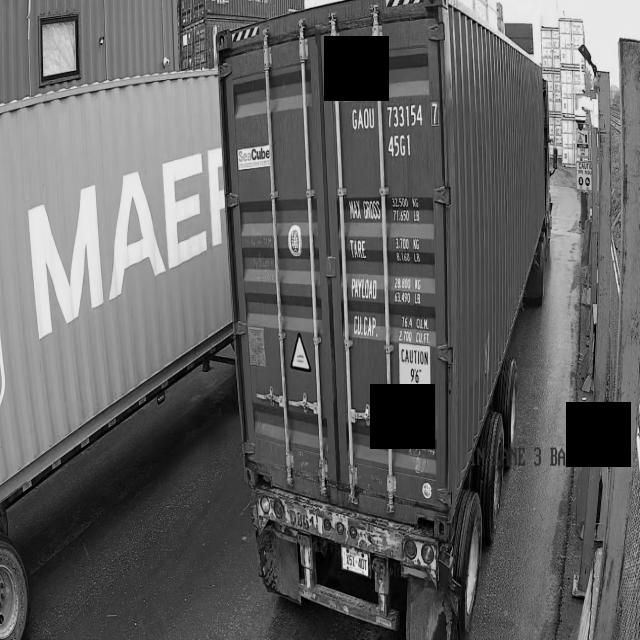container_company_logo: (233, 142, 274, 166)
container_number: (350, 101, 437, 163)
license_plate: (339, 546, 374, 575)
other_container_info: (345, 194, 441, 354)
truck_with_container: (216, 0, 553, 640), (0, 71, 233, 640)
